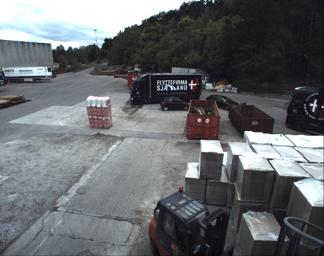rockwool_batts: (86, 93, 112, 130)
